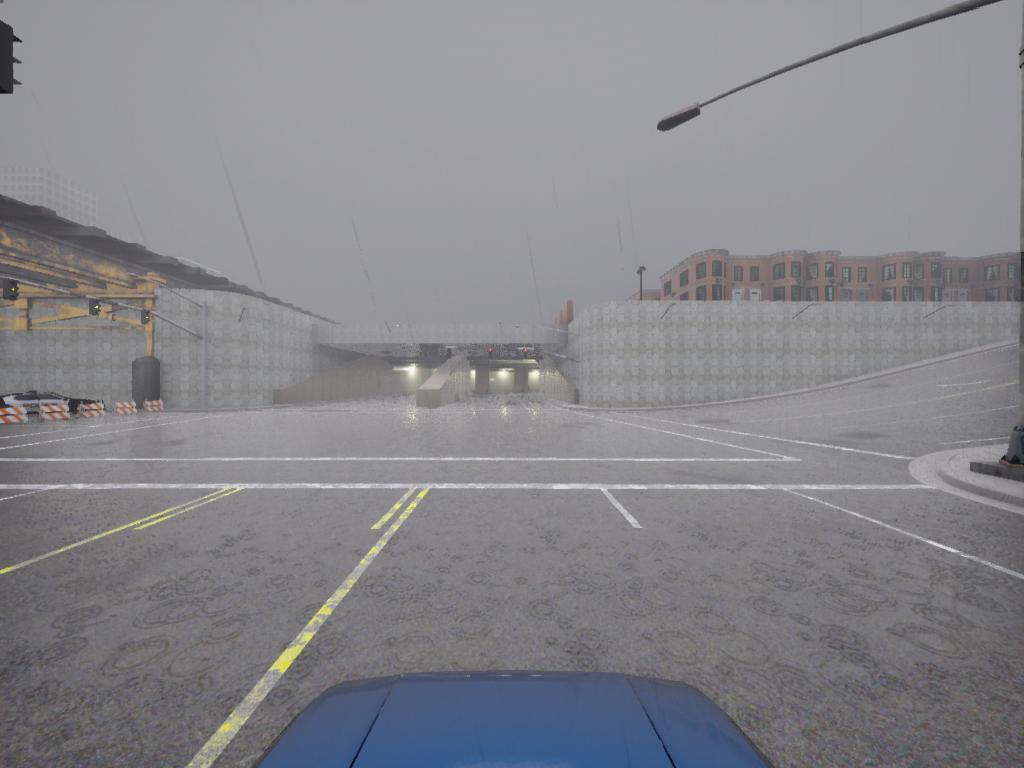traffic_light: (2, 19, 23, 95), (2, 277, 20, 306), (87, 297, 102, 320), (139, 308, 152, 327), (523, 347, 529, 362), (487, 348, 493, 360), (448, 348, 453, 361)
